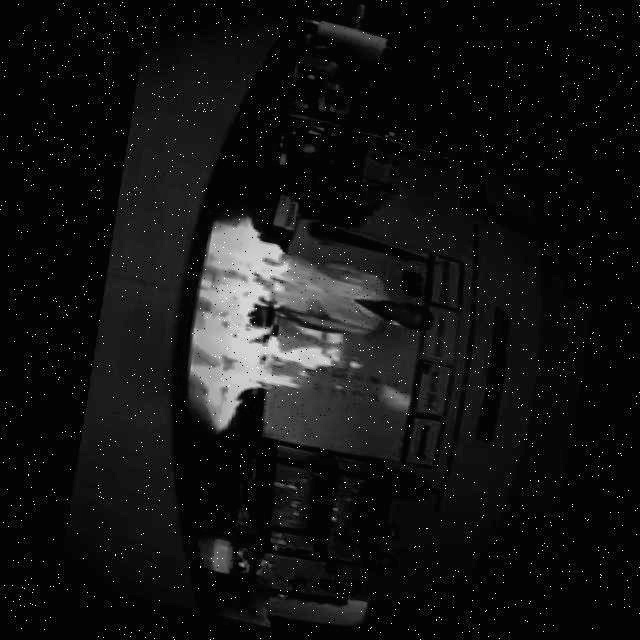Smoke: (182, 206, 372, 460)
